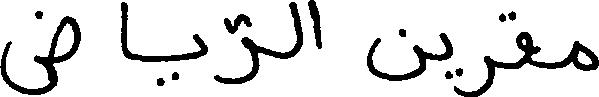X: (0, 6, 78, 96), (368, 24, 426, 85), (217, 9, 256, 88), (454, 51, 493, 96), (572, 36, 598, 75), (517, 27, 531, 73), (308, 0, 320, 53), (291, 0, 301, 61), (441, 28, 452, 83), (122, 0, 126, 96), (195, 29, 206, 63)
